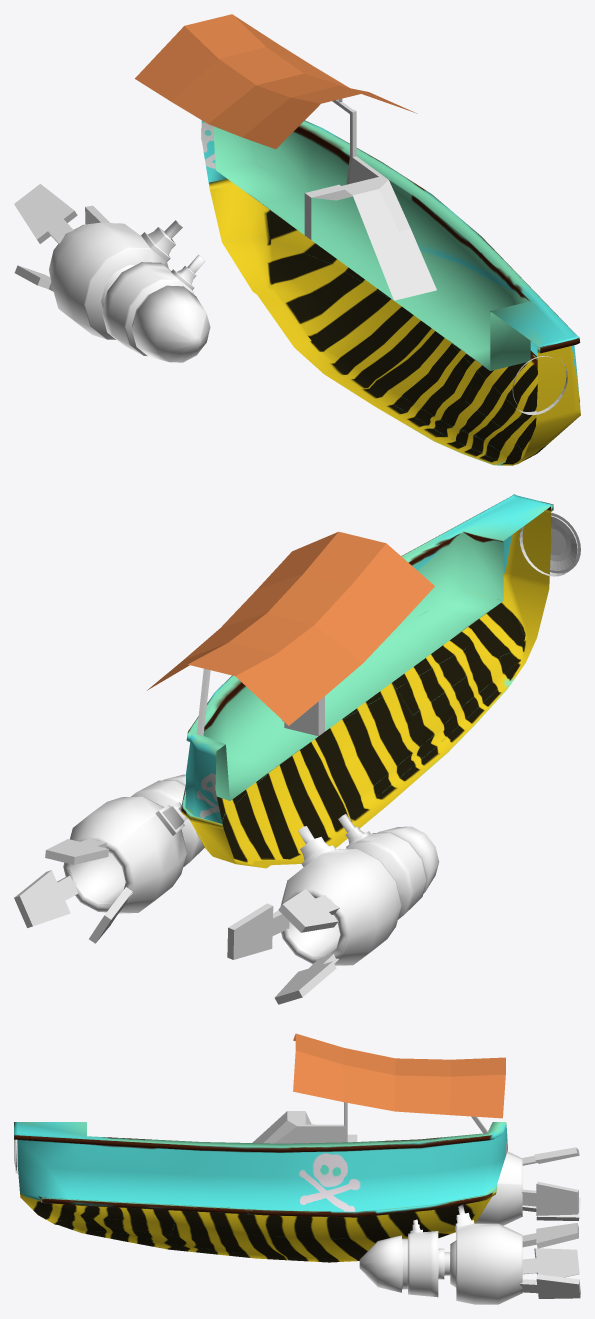
The model's file is CloudSurfer.glb.
3 views of the same model, one above another, from view 1: azimuth 30°, elevation 25°; view 2: azimuth 150°, elevation 25°; view 3: azimuth 270°, elevation 25° (orthographic). The views are drawn at different scales.
Visible parts, largest first — view 1: Plane, Circle.001, Plane.003, Cube, Plane.002; view 2: Plane, Plane.003, Circle.001, Circle, Plane.002, Plane.001, Circle.002, Cube; view 3: Plane, Plane.003, Circle, Plane.001, Plane.002, Cube, Circle.001.
Part boxes in pixels (x1,y1,x2,y2): Plane: (201,120,580,465); Circle.001: (49,220,210,362); Plane.003: (135,14,417,149); Cube: (304,98,436,300); Plane.002: (14,184,109,291); Plane: (181,494,553,868); Plane.003: (147,531,434,725); Circle.001: (280,814,439,965); Circle: (63,774,204,913); Plane.002: (227,889,339,1004); Plane.001: (14,838,132,943); Circle.002: (519,512,580,576); Cube: (196,668,324,736); Plane: (14,1122,507,1262); Plane.003: (293,1033,505,1118); Circle: (359,1204,522,1304); Plane.001: (520,1223,580,1298); Plane.002: (521,1147,580,1220); Cube: (252,1102,488,1143); Circle.001: (475,1151,522,1225).
Size of the model in its own units: 4.35 by 4.02 by 9.39.
3 materials, 1 textured.
